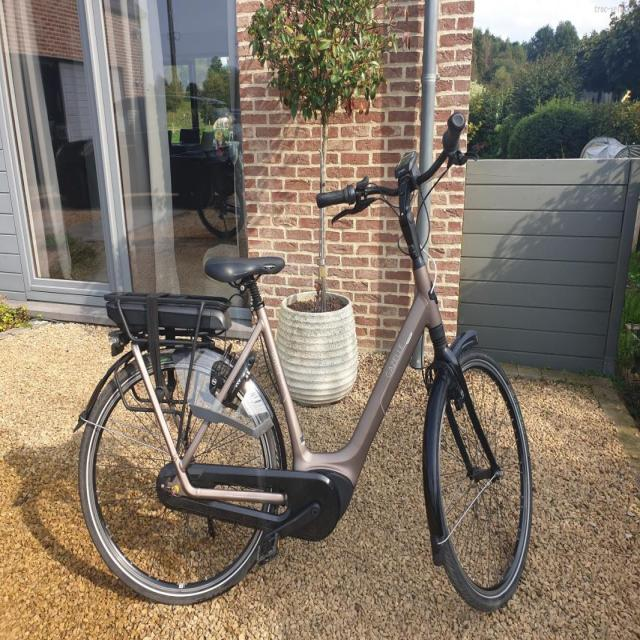Tree: (249, 0, 398, 192)
